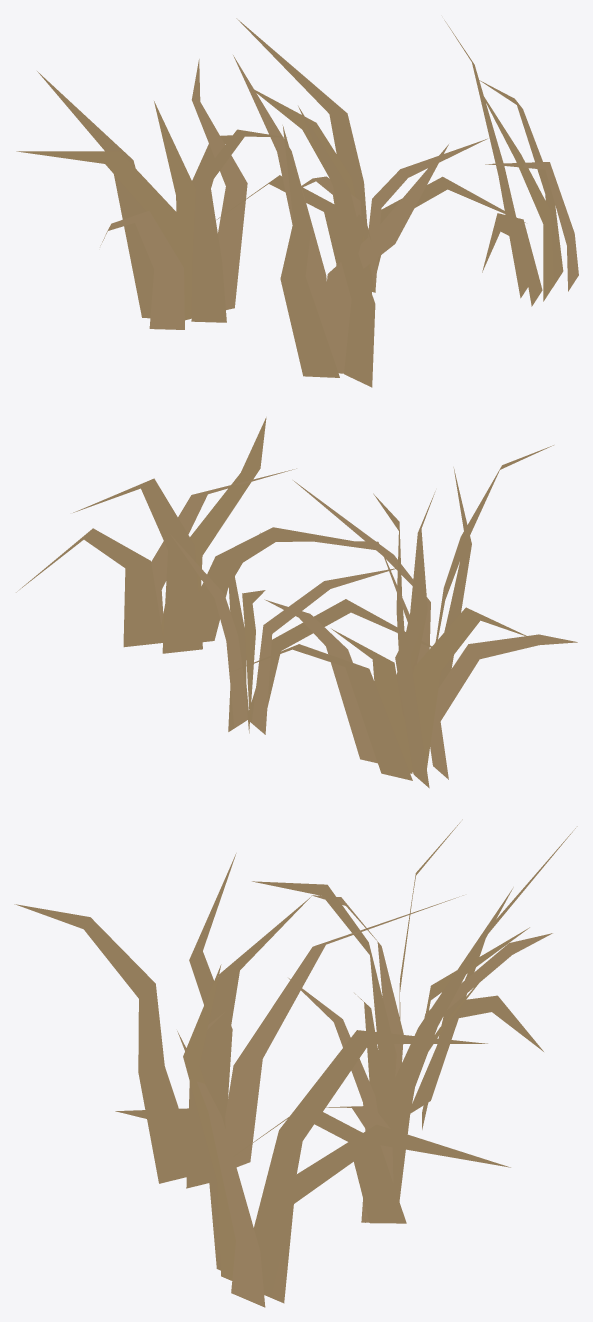
File: Grass_e_TwoS_06.fbx
3 views of the same model, one above another, from view 1: azimuth 30°, elevation 25°; view 2: azimuth 150°, elevation 25°; view 3: azimuth 270°, elevation 25° (orthographic). The views are drawn at different scales.
Parts seen in each view (by area): view 1: Grass_e_TwoS_06; view 2: Grass_e_TwoS_06; view 3: Grass_e_TwoS_06.
Boxes of the visible parts, x1=… form: Grass_e_TwoS_06: x1=16, y1=18, x2=578, y2=387; Grass_e_TwoS_06: x1=16, y1=417, x2=577, y2=788; Grass_e_TwoS_06: x1=14, y1=819, x2=577, y2=1307.
Size of the model in its own units: 1.02 by 0.5188 by 0.8713.
